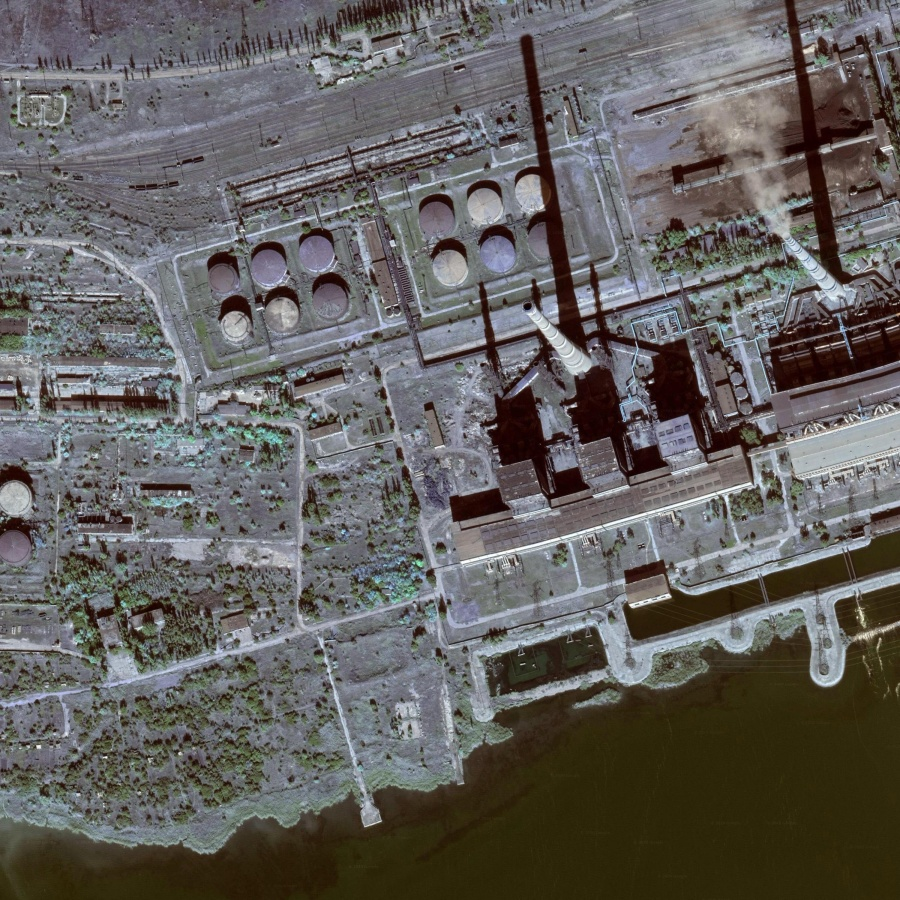PowerPlant: (170, 205, 377, 381)
